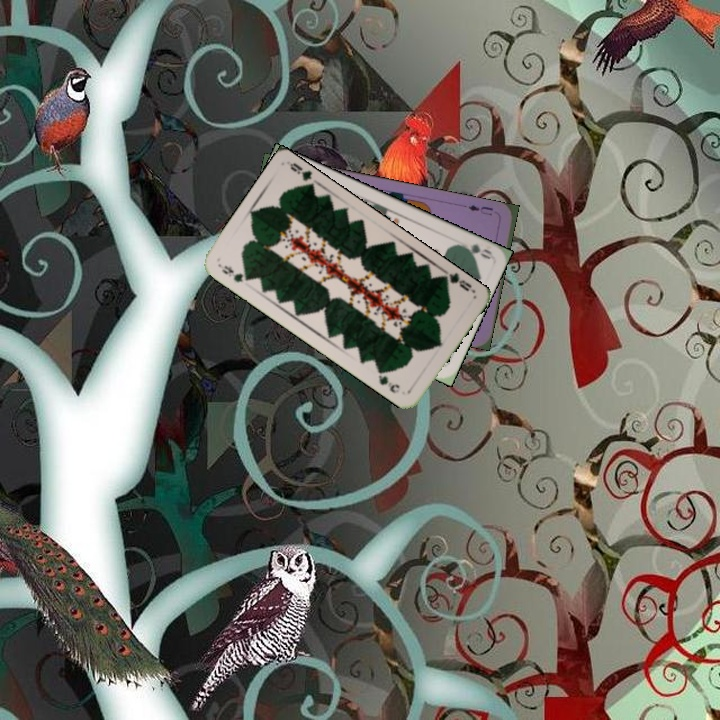EU: (464, 200, 495, 218)
G9: (438, 266, 474, 294), (218, 261, 253, 285)
GO: (453, 239, 494, 262)
